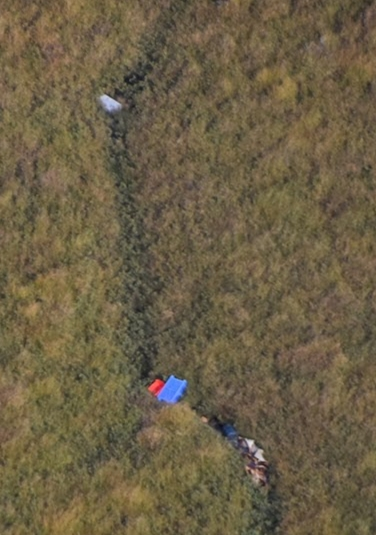together_barrel: (139, 363, 277, 486)
white_in_green: (67, 70, 155, 133)
